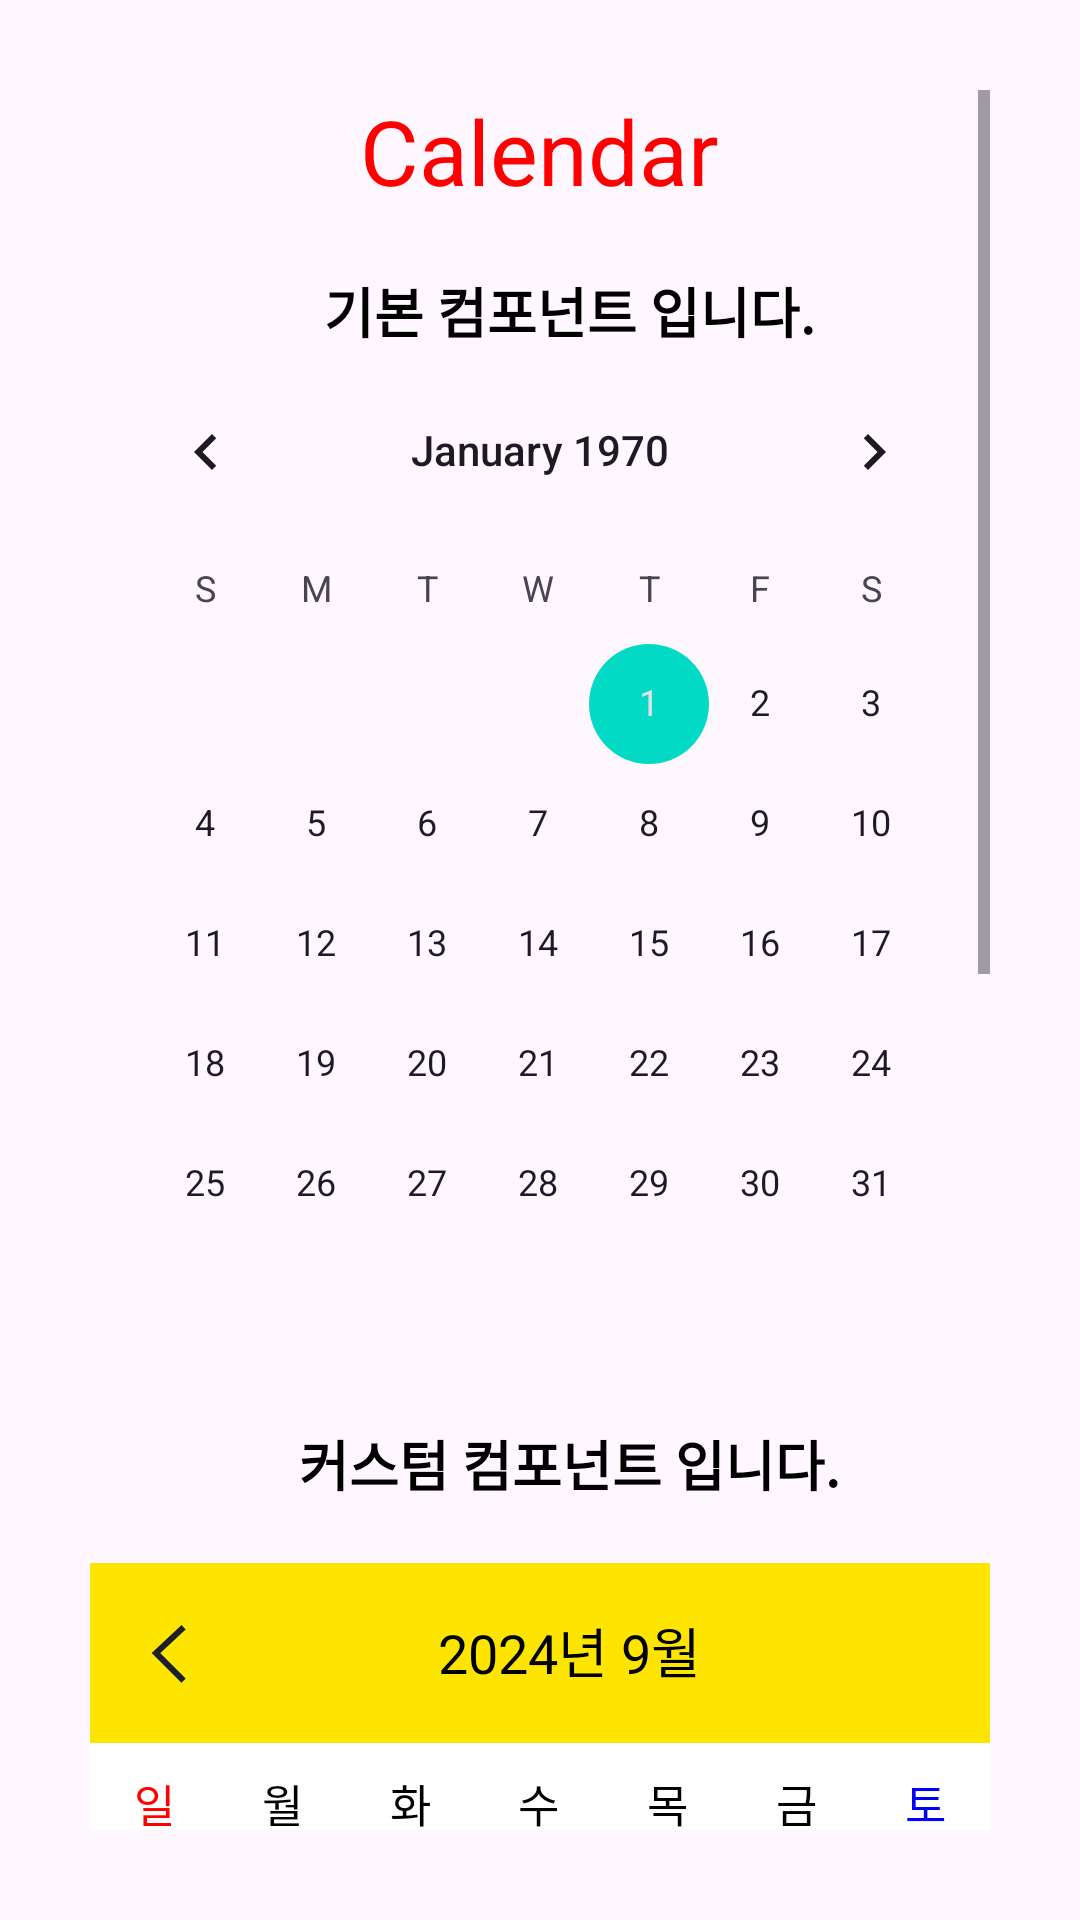

Screen size 1080w x 1920h. Icon name, then its box in pixels as box=[x1, y1, x2, y2]:
이전달: box=[152, 1625, 186, 1683]
